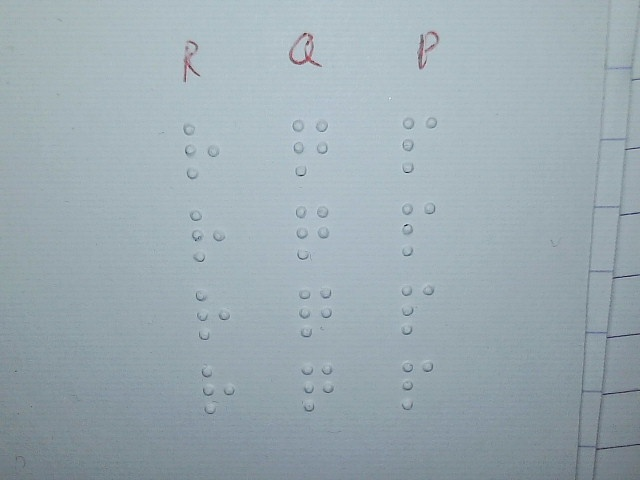P: (400, 115, 438, 173), (401, 200, 436, 257), (400, 283, 435, 336), (400, 359, 434, 411)
Q: (291, 118, 329, 176), (295, 203, 330, 260), (298, 285, 333, 338), (300, 362, 334, 412)
R: (182, 122, 220, 180), (189, 207, 226, 262), (194, 287, 231, 342), (201, 363, 235, 414)
